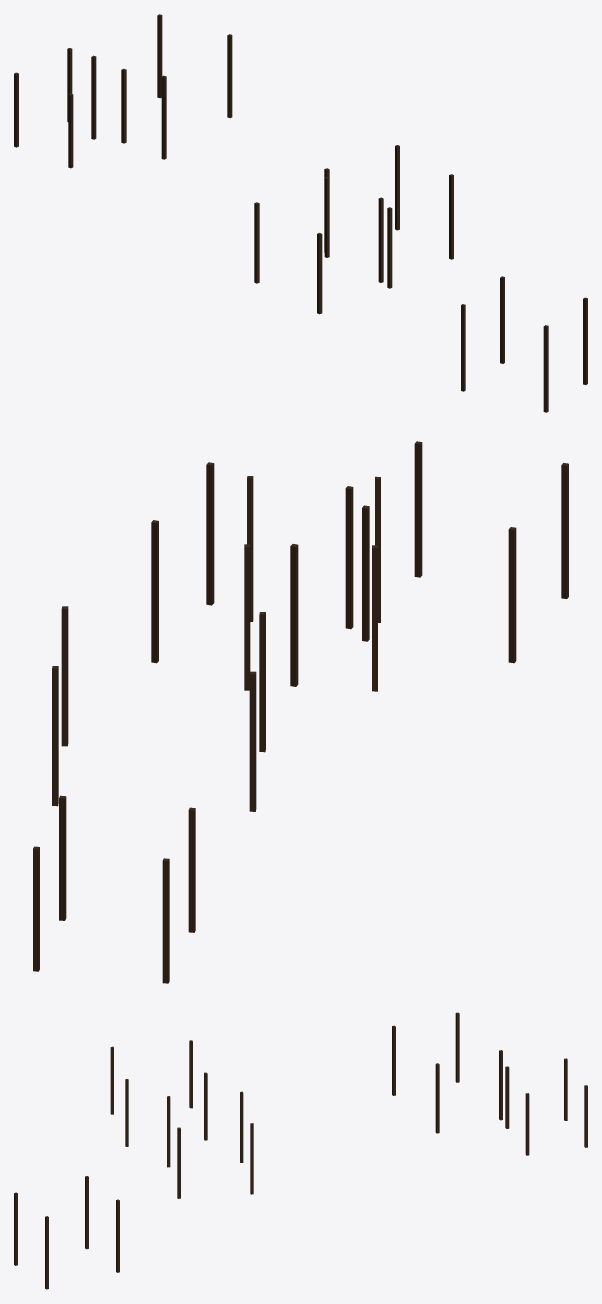
File: coast_saltglass_landing_lod1.glb
3 views of the same model, one above another, from view 1: azimuth 30°, elevation 25°; view 2: azimuth 150°, elevation 25°; view 3: azimuth 270°, elevation 25° (orthographic). The views are drawn at different scales.
Parts seen in each view (by area): view 1: geometry_0; view 2: geometry_0; view 3: geometry_0.
Boxes of the visible parts, bbox=[...] form: geometry_0: bbox=[14, 14, 587, 412]; geometry_0: bbox=[33, 441, 568, 983]; geometry_0: bbox=[14, 1012, 587, 1289].
Size of the model in its own units: 25.44 by 19.22 by 57.27.
